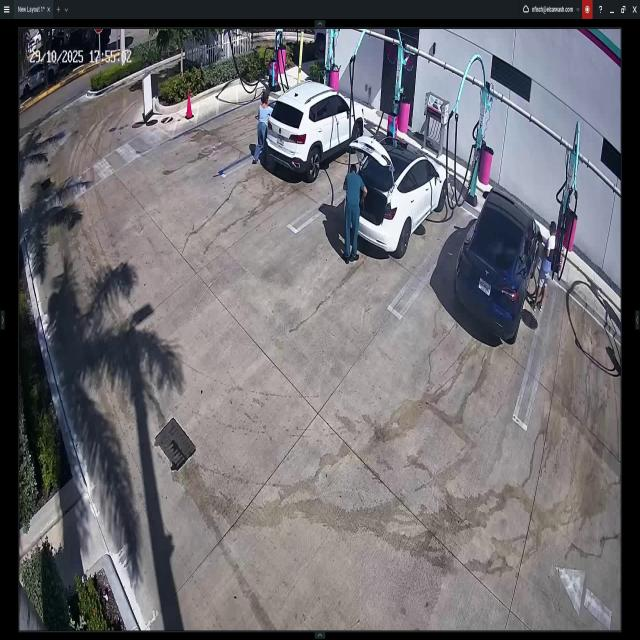Car: (455, 189, 541, 343), (343, 135, 447, 260), (260, 83, 362, 175)
